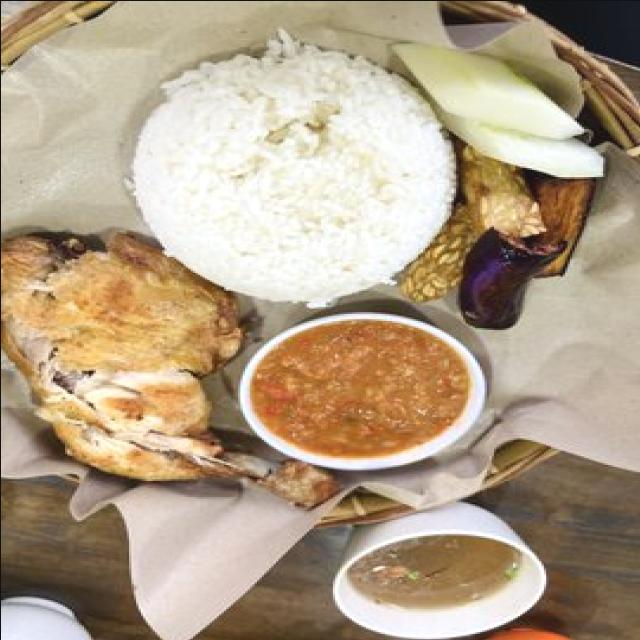ayam goreng: (0, 231, 344, 508)
nasi: (123, 28, 484, 302)
